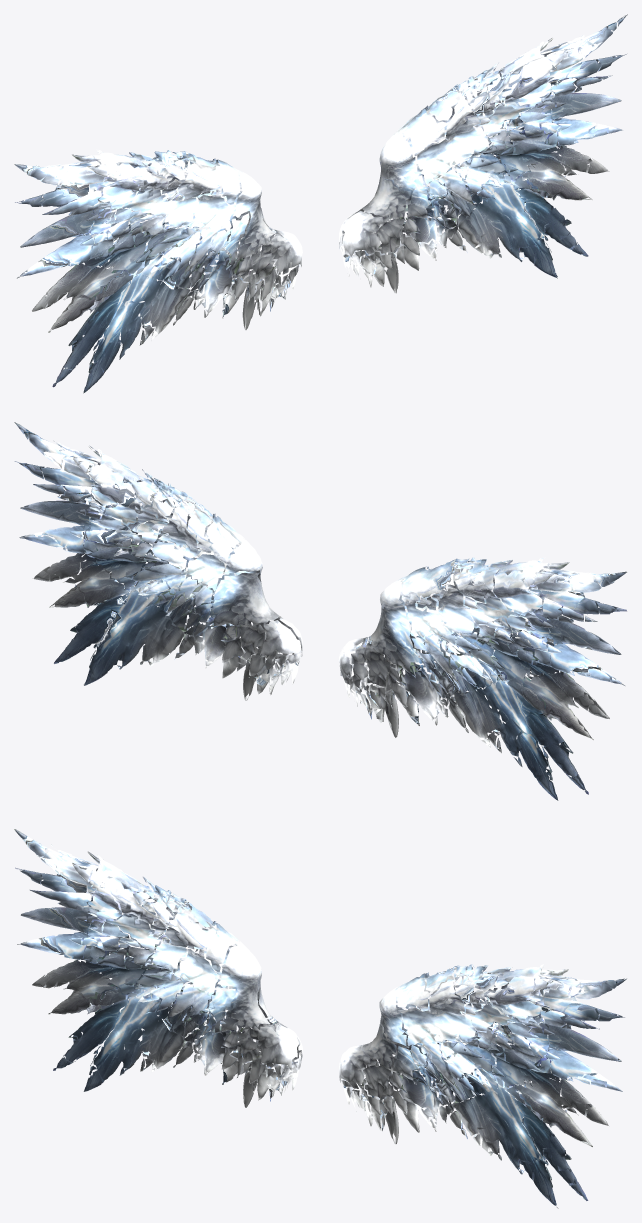
The model's file is angel_wings_optimized.glb.
3 views of the same model, one above another, from view 1: azimuth 30°, elevation 25°; view 2: azimuth 150°, elevation 25°; view 3: azimuth 330°, elevation 25° (orthographic).
Parts seen in each view (by area): view 1: mesh_node; view 2: mesh_node; view 3: mesh_node.
Part boxes in pixels (bbox=[...]): mesh_node: bbox=[14, 14, 627, 393]; mesh_node: bbox=[14, 422, 626, 800]; mesh_node: bbox=[14, 829, 626, 1208].
Size of the model in its own units: 1.89 by 0.7273 by 0.118.
Materials: 1 (1 with a texture image).
